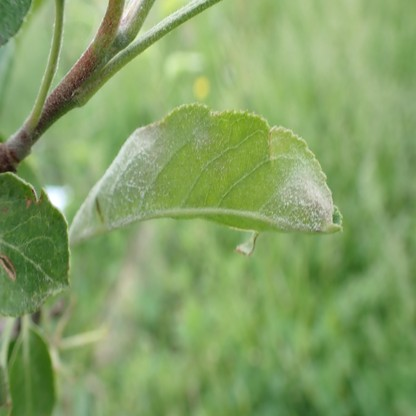frogeye: (0, 253, 16, 281), (26, 195, 32, 208), (2, 205, 7, 213)
powder: (102, 123, 174, 231), (263, 146, 332, 231), (28, 266, 63, 308), (190, 123, 218, 151)
